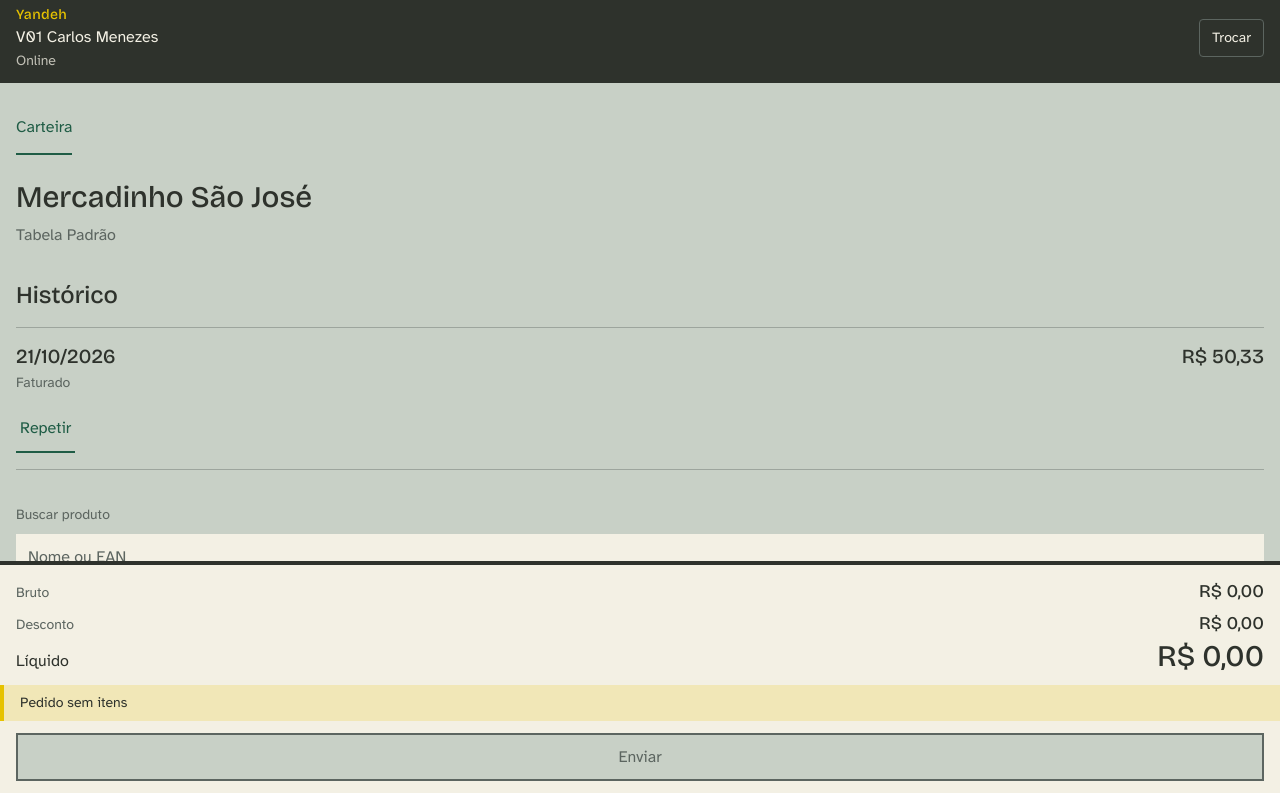
Test case: OrderPage › item não só múltiplo com fator alterado mantém as unidades, Lote vazio e a mensagem
Click the button with test id "repeat-order".
click(46, 429)  # box [16,405,75,453]
(page scrolled)
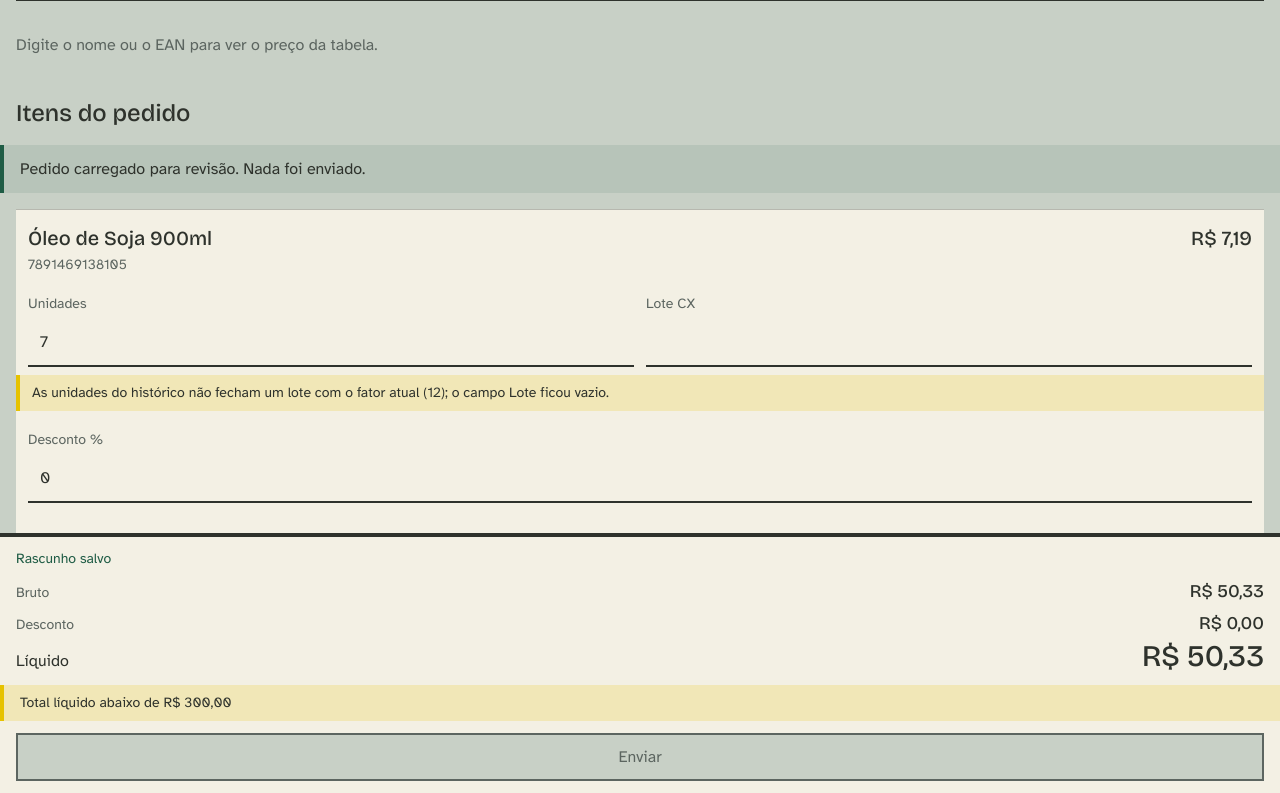
Check: the field with test id "cart-units" holds "7", box [28,319,634,367]
Check: the field with test id "cart-lots" is empty, box [646,319,1252,367]
Check: the text with test id "cart-line-notice" shows "As unidades do histórico não fecham um lote com o fator atual (12)", box [32,384,609,401]
